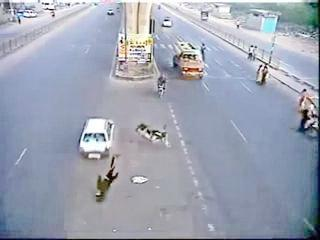Car: (77, 102, 122, 168)
Major Accident: (65, 94, 184, 199)
Motor: (133, 115, 175, 161)
